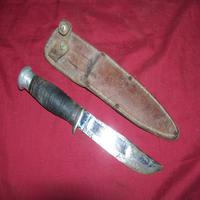knife: (14, 14, 177, 176)
